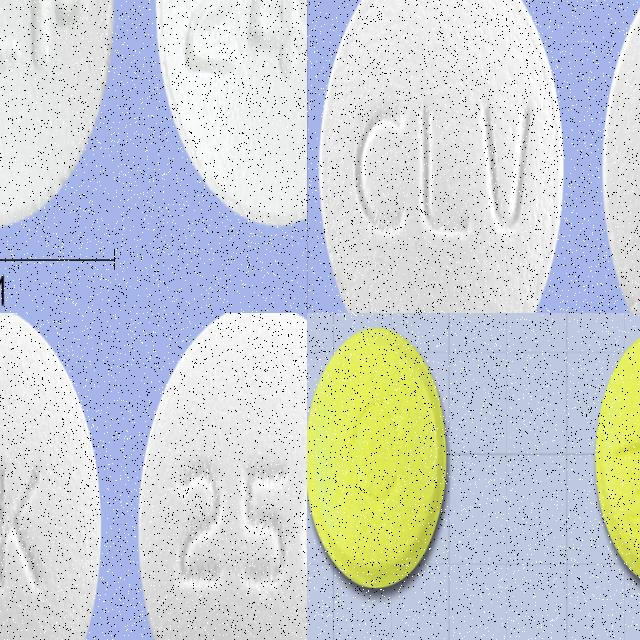C-Clarin: (307, 321, 451, 595), (591, 323, 640, 596)
Celltrion Levofloxacin: (153, 0, 307, 234), (0, 0, 119, 236)
Ciproc: (135, 313, 307, 640), (0, 313, 106, 640)
Clevote: (318, 0, 564, 313)
